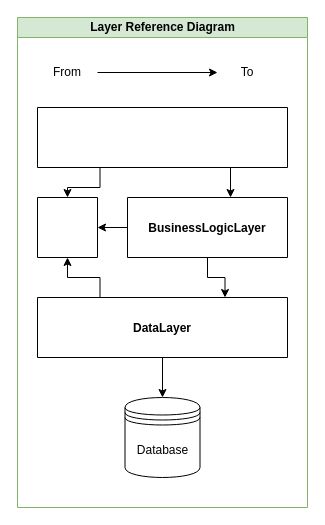
This 325x525 diagram has some shape labels left out. Here are the shapes that lost their labels. From the top down, the box of each, then its label:
(36, 106, 288, 168): PresentationLayer
(36, 196, 98, 258): Entities
